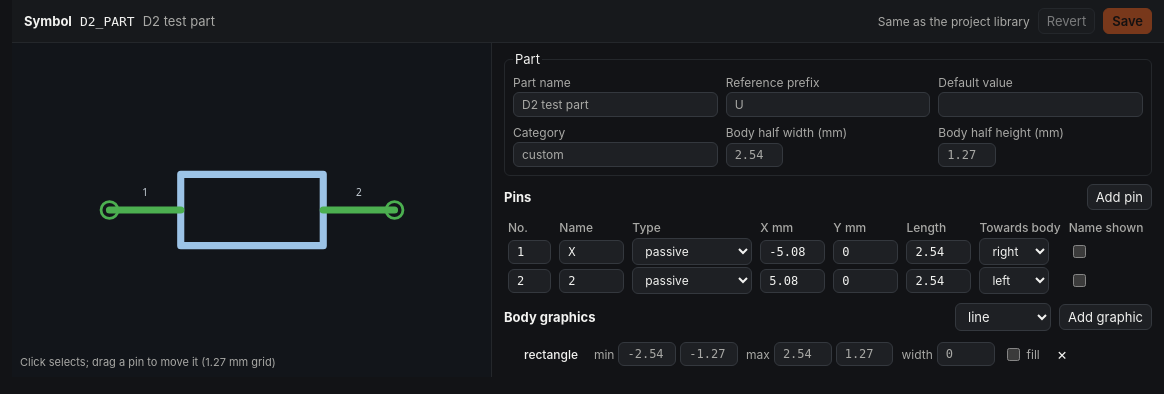
Scenario: symbol editor › follows the engine when it saves, and Revert drops a draft
Earlier steps of the test are not shown.
Step 1. Replace the text in the field named "Pin 2 name" with "Y" → (592,280), box top-left (559, 268), bottom-right (624, 292)
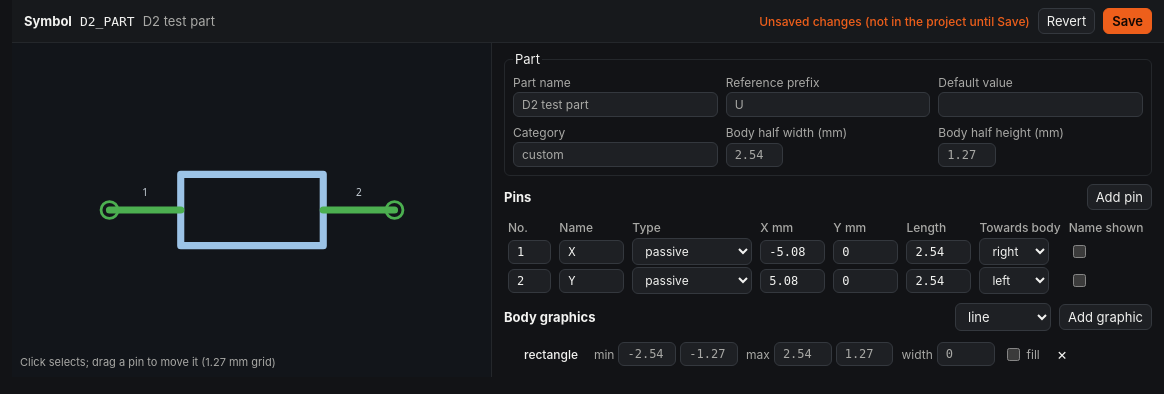
Step 2. Click the button "Revert" → (1066,21), box top-left (1038, 8), bottom-right (1095, 34)
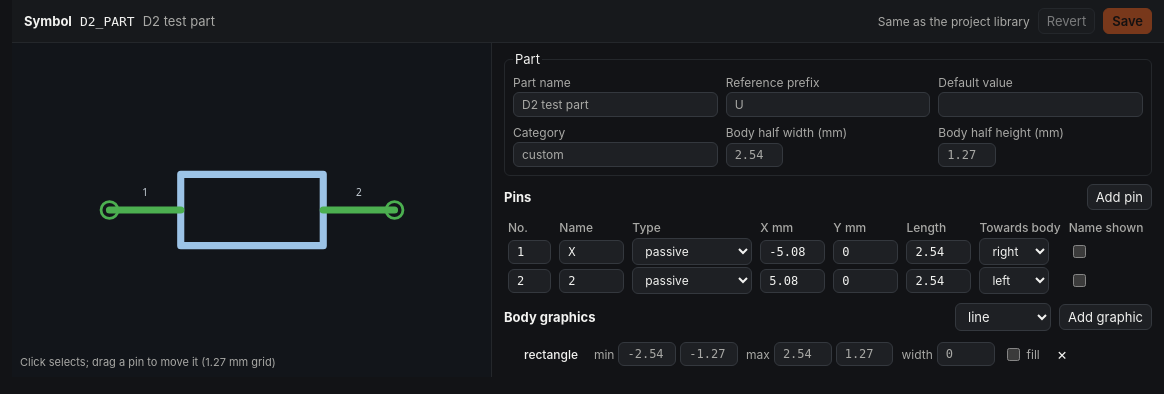
Expected: the field named "Pin 2 name" holds "2", top-left (559, 268), bottom-right (624, 292)
